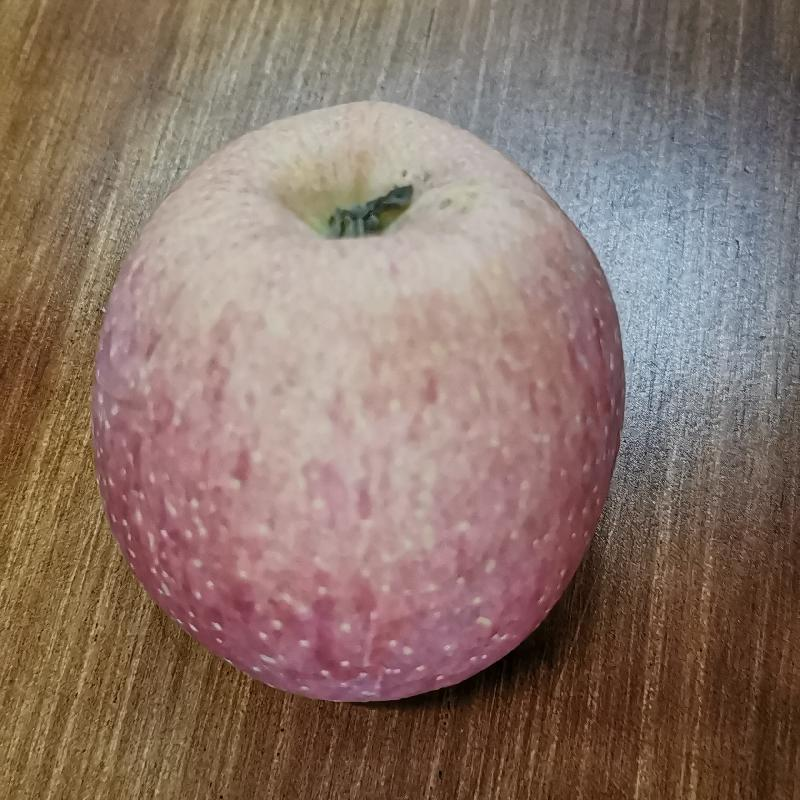apples: (88, 94, 630, 695)
